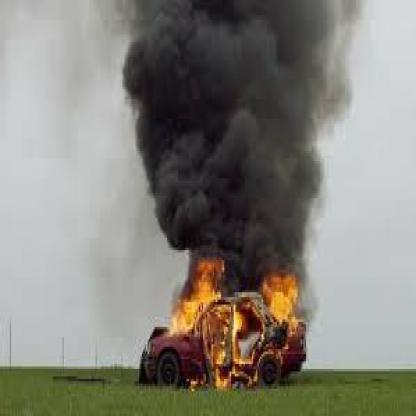fire: (167, 260, 305, 388)
smoke: (102, 1, 352, 260)
